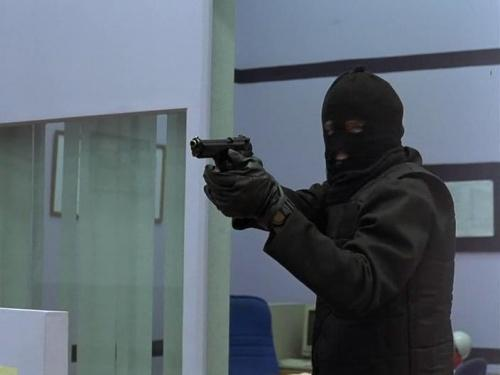Gun: (191, 134, 254, 177)
